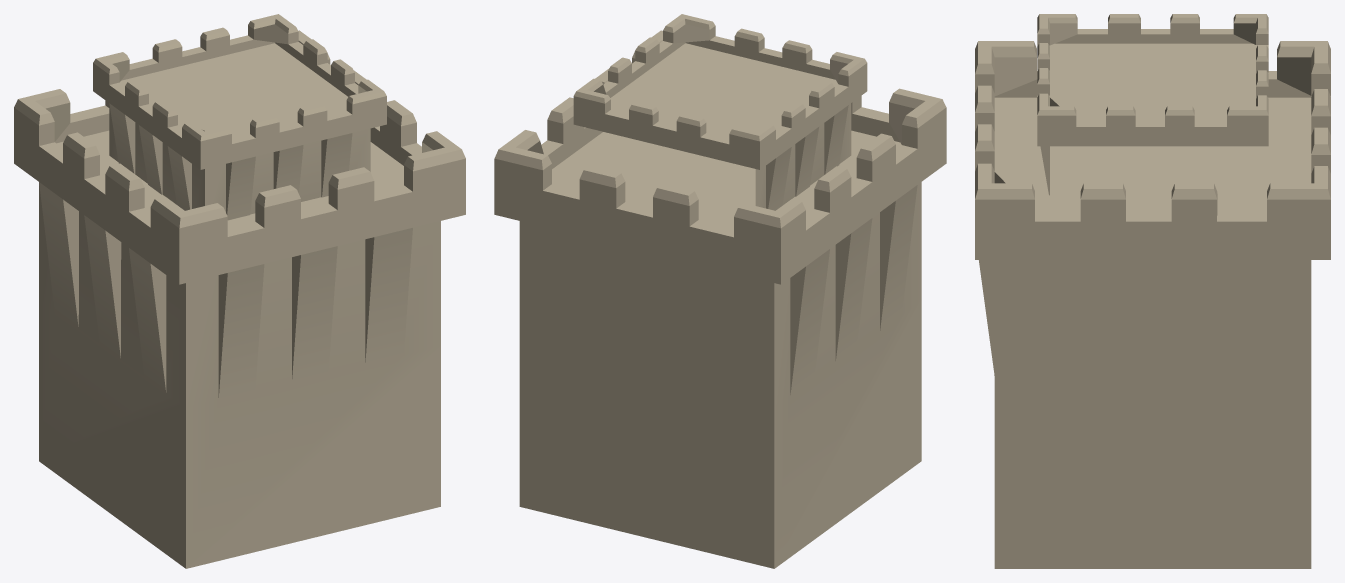
File: башня ДаблФлип.FBX
3 renders of one model, left to right at view 1: azimuth 30°, elevation 25°; view 2: azimuth 150°, elevation 25°; view 3: azimuth 270°, elevation 25°, orthographic. The views are drawn at different scales.
Visible parts, largest first — view 1: Box085; view 2: Box085; view 3: Box085.
Part boxes in pixels (<box>): Box085: <box>14,14,465,568</box>; Box085: <box>494,14,946,568</box>; Box085: <box>975,14,1330,568</box>.
Size of the model in its own units: 113 by 153 by 113.
